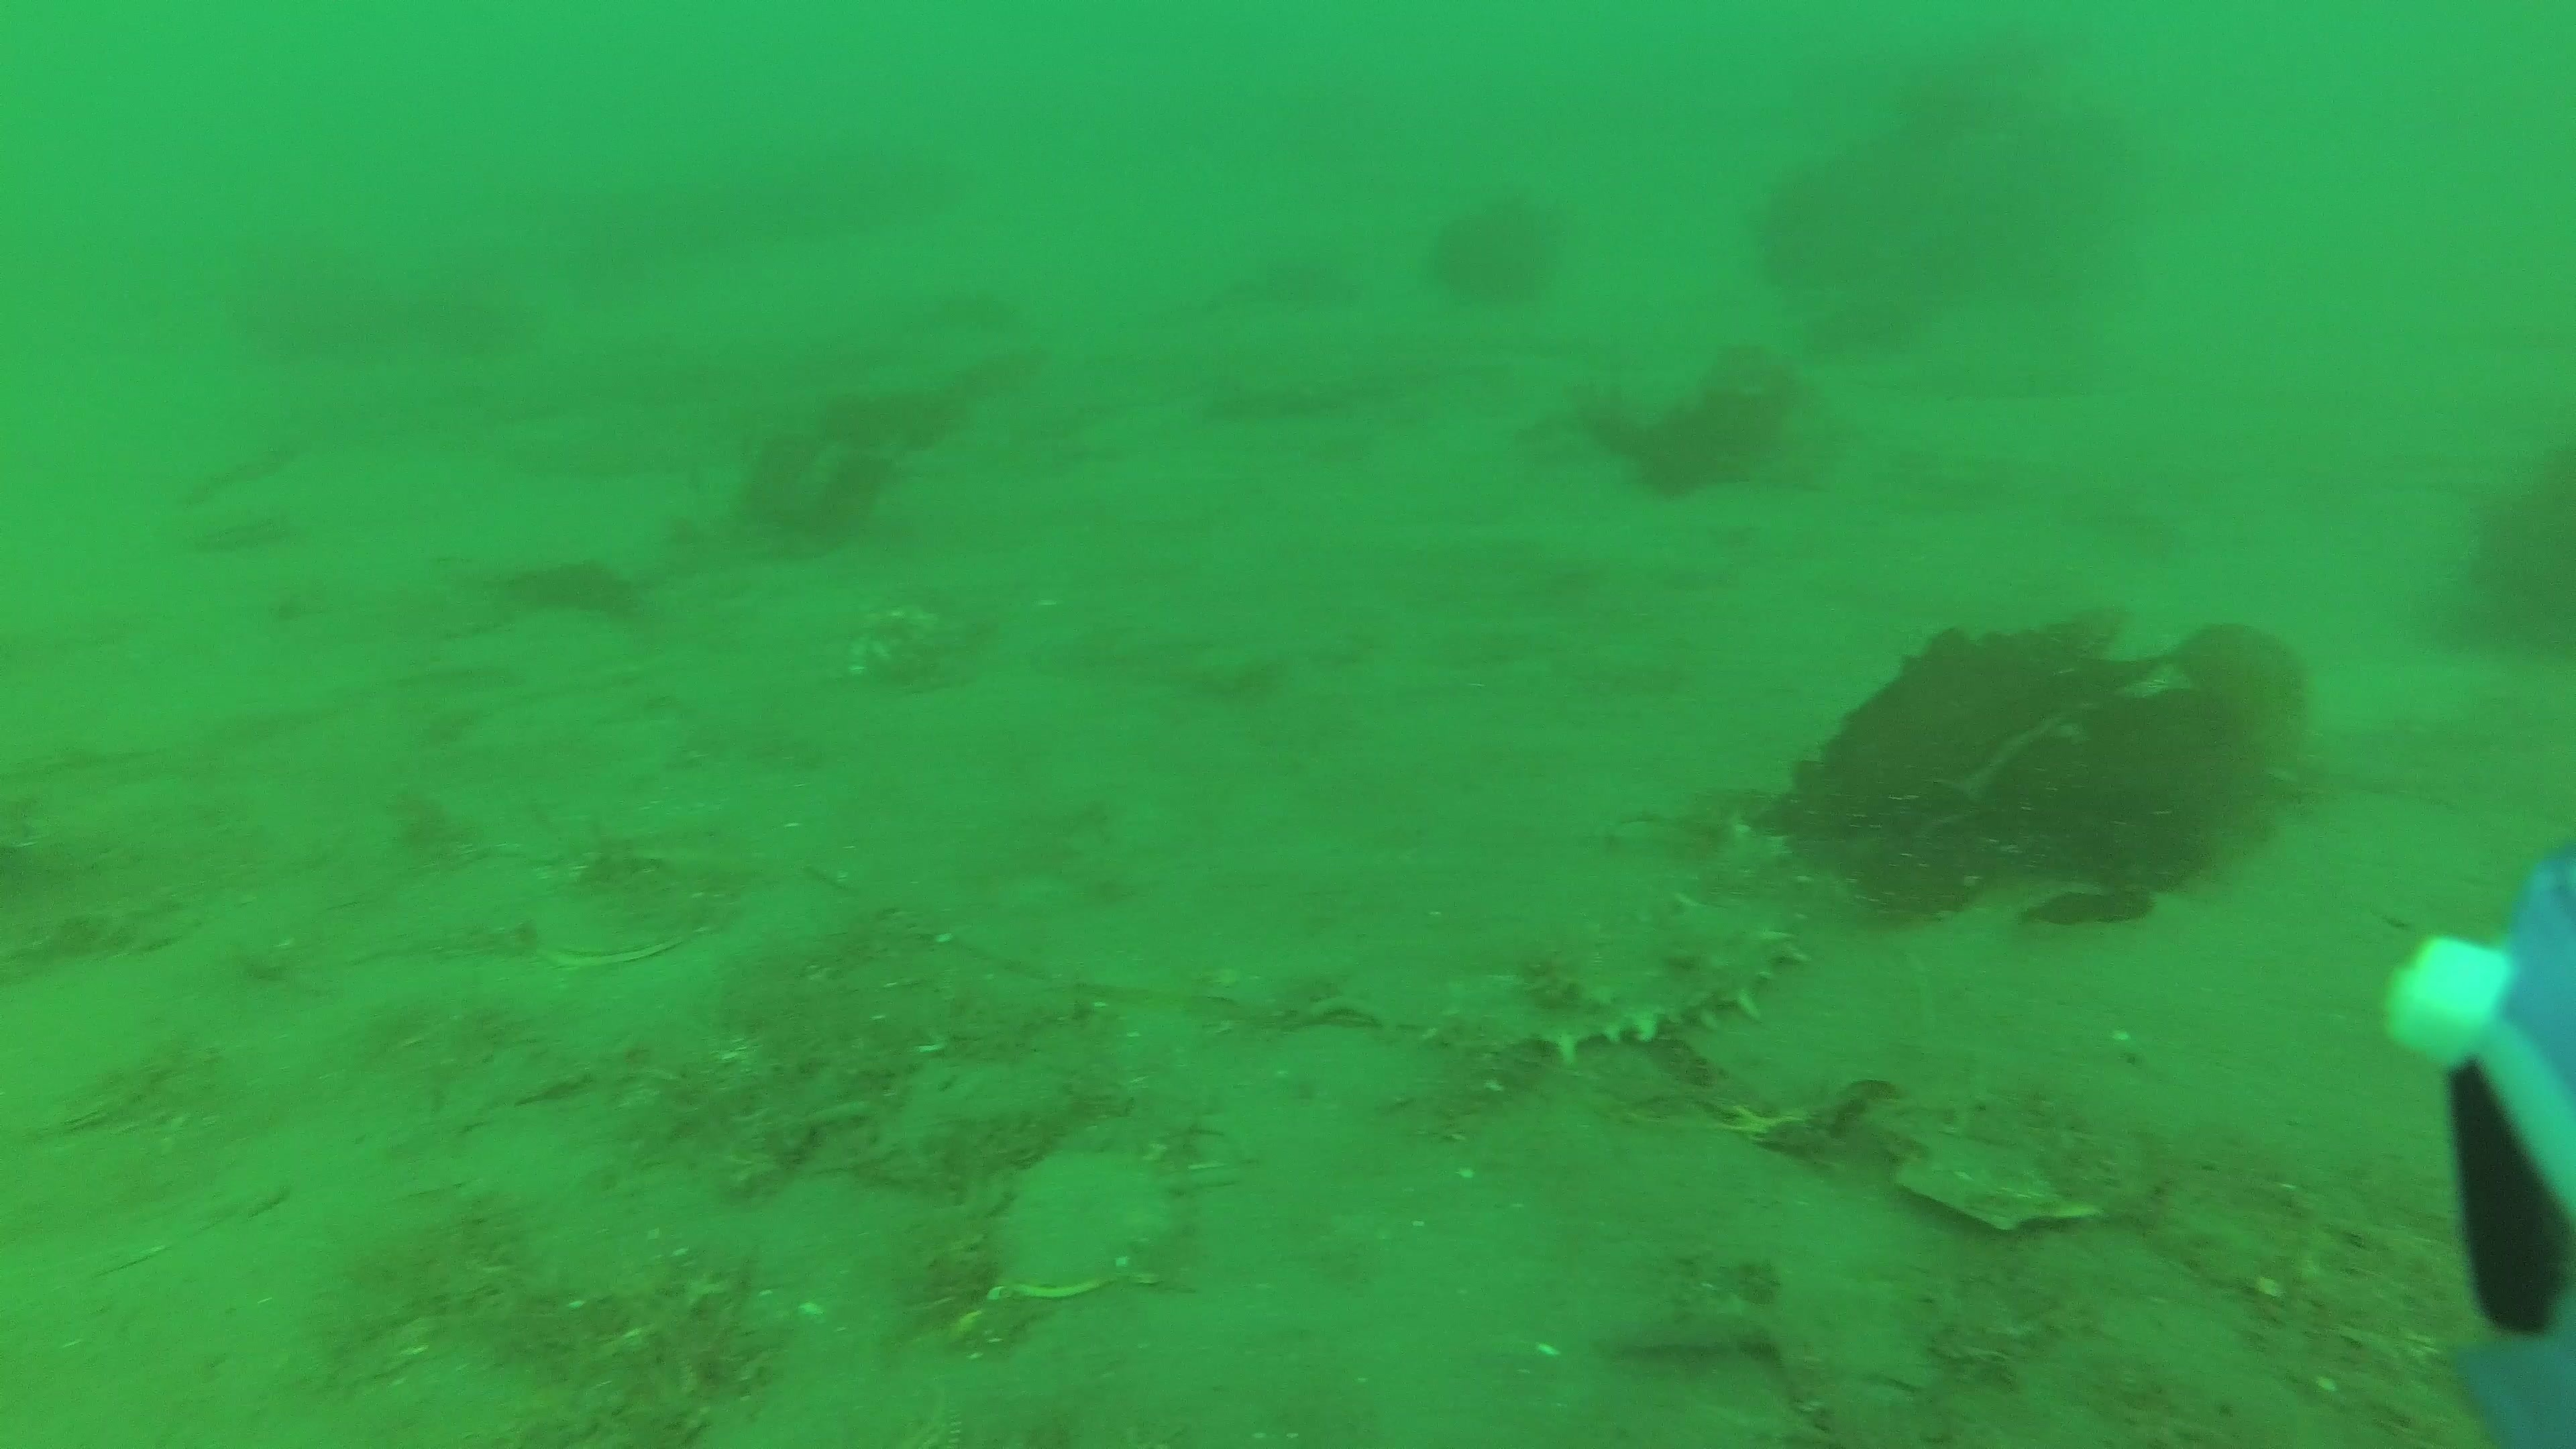holothurian: (1421, 890, 1815, 1065)
scallop: (1863, 1074, 2157, 1228), (984, 1166, 1169, 1299), (534, 872, 717, 973)
